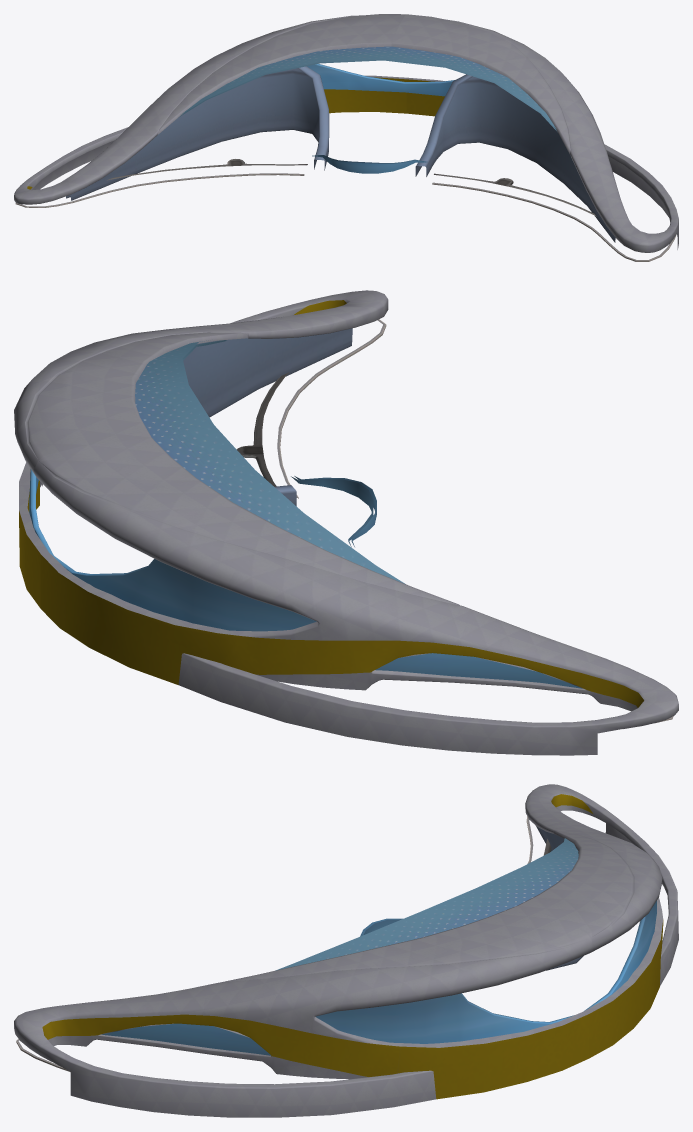
Rendered from pref_sm_beach_bk_pointmol_leftbuild02_lv1.fbx.
The picture shows the model from 3 angles, top to bottom: view 1: azimuth 30°, elevation 25°; view 2: azimuth 150°, elevation 25°; view 3: azimuth 270°, elevation 25°; orthographic projection. The views are drawn at different scales.
Visible parts, largest first — view 1: sm_beach_bk_pointmol_leftbuild02a_lv1, sm_beach_bk_pointmol_leftbuild02b_lv1, sm_beach_bk_pointmol_leftbuild02c_lv1; view 2: sm_beach_bk_pointmol_leftbuild02a_lv1, sm_beach_bk_pointmol_leftbuild02b_lv1, sm_beach_bk_pointmol_leftbuild02c_lv1; view 3: sm_beach_bk_pointmol_leftbuild02a_lv1, sm_beach_bk_pointmol_leftbuild02b_lv1, sm_beach_bk_pointmol_leftbuild02c_lv1.
Boxes of the visible parts, x1=… form: sm_beach_bk_pointmol_leftbuild02a_lv1: x1=14, y1=14, x2=678, y2=252; sm_beach_bk_pointmol_leftbuild02b_lv1: x1=15, y1=66, x2=676, y2=261; sm_beach_bk_pointmol_leftbuild02c_lv1: x1=178, y1=46, x2=556, y2=173; sm_beach_bk_pointmol_leftbuild02a_lv1: x1=14, y1=290, x2=678, y2=755; sm_beach_bk_pointmol_leftbuild02b_lv1: x1=19, y1=300, x2=673, y2=723; sm_beach_bk_pointmol_leftbuild02c_lv1: x1=29, y1=340, x2=582, y2=688; sm_beach_bk_pointmol_leftbuild02a_lv1: x1=14, y1=784, x2=678, y2=1117; sm_beach_bk_pointmol_leftbuild02b_lv1: x1=16, y1=794, x2=663, y2=1099; sm_beach_bk_pointmol_leftbuild02c_lv1: x1=102, y1=838, x2=656, y2=1055.
Bounding box in the file's own units: 48.71 × 9.69 × 45.16.
